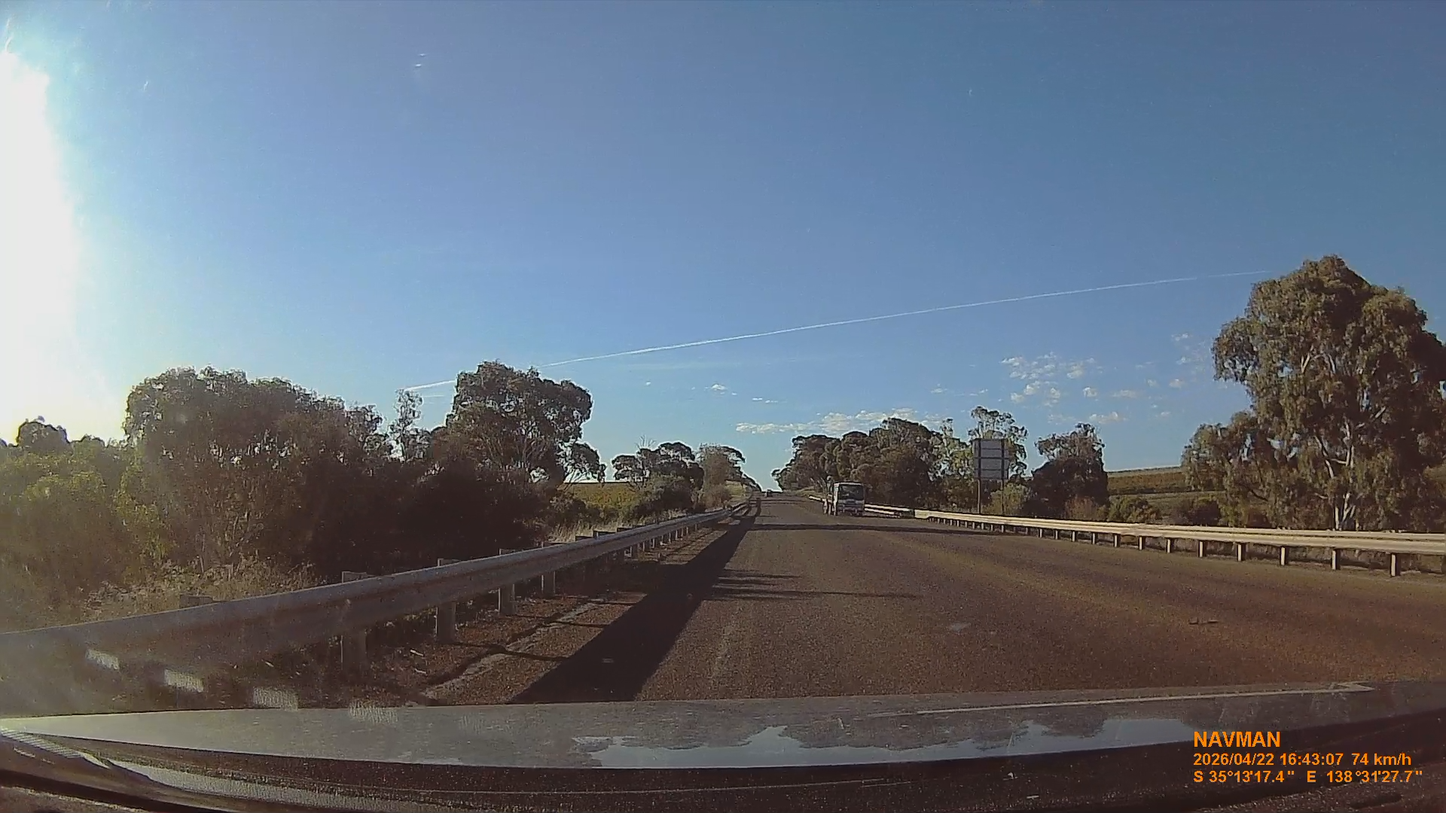road barriers: (0, 511, 728, 717), (914, 511, 1445, 576)
